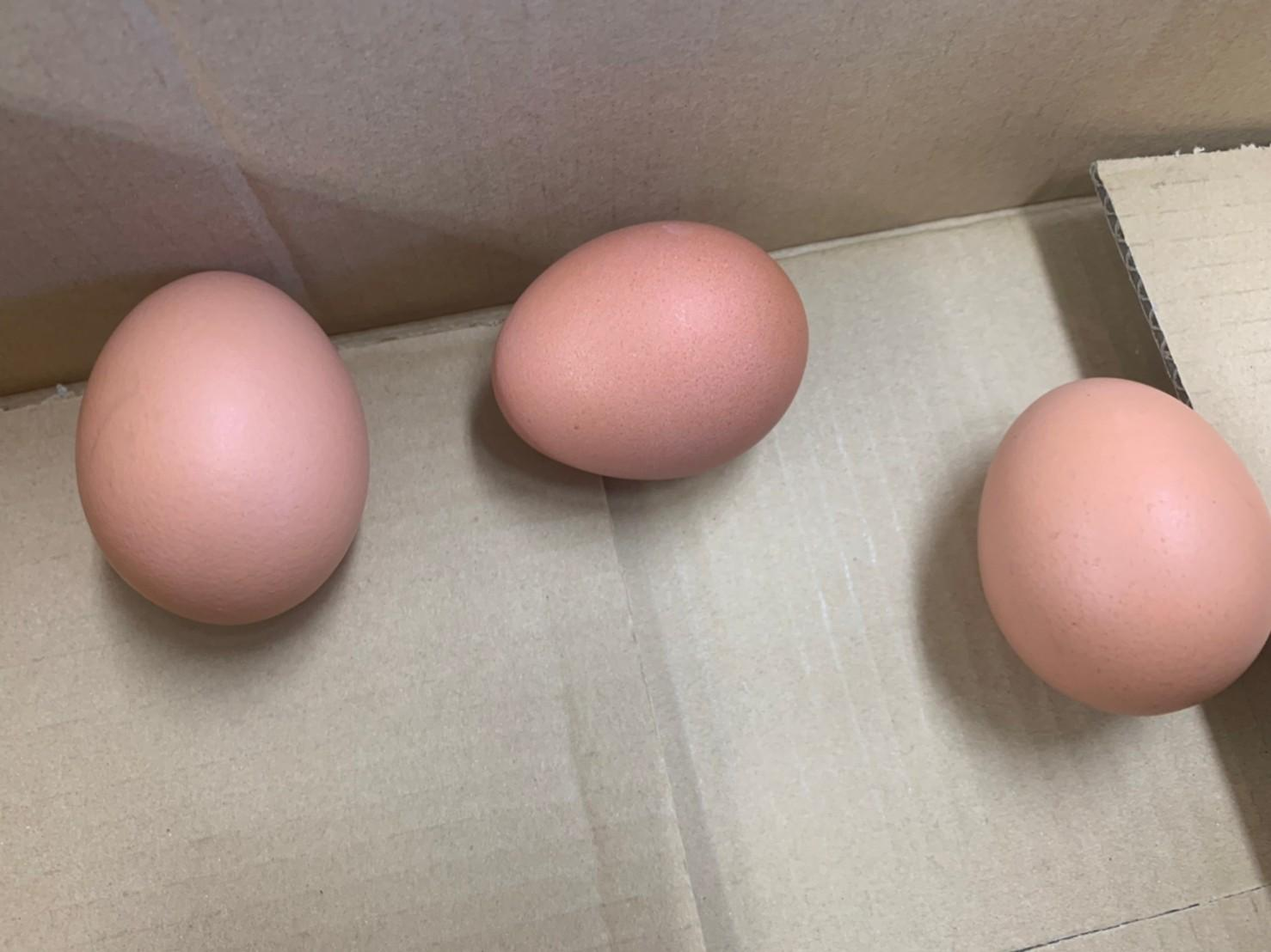egg: (72, 265, 375, 632), (971, 370, 1271, 717), (489, 219, 817, 488)
